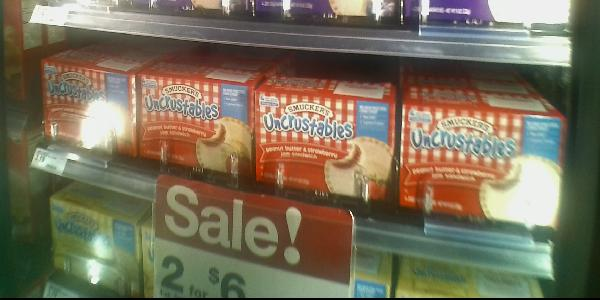icecream: (401, 100, 566, 226), (255, 86, 393, 206), (139, 70, 255, 190), (39, 54, 140, 159)
